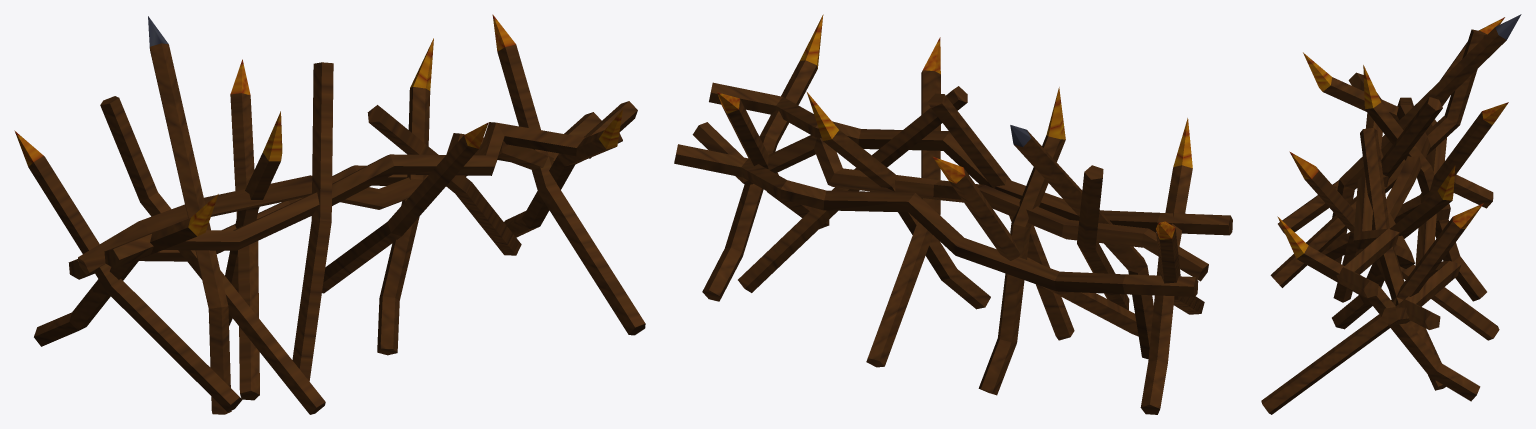
Rendered from palissade.FBX.
3 views of the same model, side by side, from view 1: azimuth 30°, elevation 25°; view 2: azimuth 150°, elevation 25°; view 3: azimuth 270°, elevation 25° (orthographic). The views are drawn at different scales.
Visible parts, largest first — view 1: palissade; view 2: palissade; view 3: palissade.
Boxes of the visible parts, x1=… form: palissade: x1=14, y1=14, x2=645, y2=414; palissade: x1=674, y1=14, x2=1232, y2=414; palissade: x1=1261, y1=14, x2=1521, y2=414.
Bounding box in the file's own units: 2.9 × 1.58 × 1.4.
